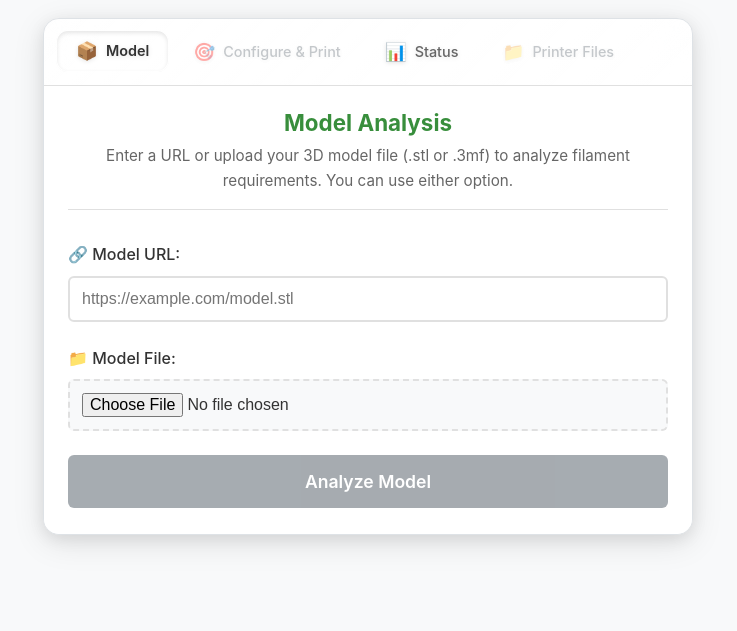
it: Status Messages Scrolling › status messages container exists and can display multiple messages
The width and height of the screenshot is (737, 631).
# Navigate to the Status tab first
Click the tab "📊 Status" at {"x": 422, "y": 52}, box [365,31,478,73]
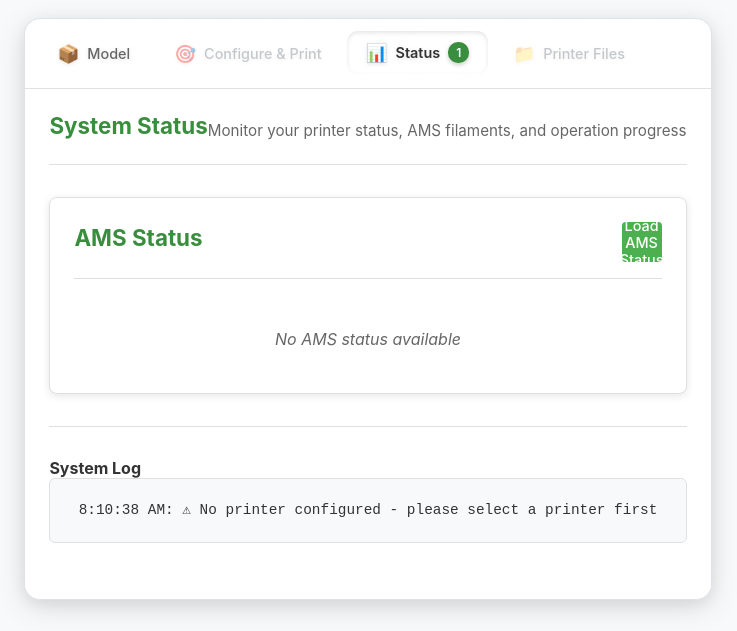
Expected: the heading "System Status" is shown, [49,113,208,140]
Expected: the heading "System Log" is shown, [49,458,141,478]
Expected: the element with class "status-messages" is shown, [49,478,687,543]
